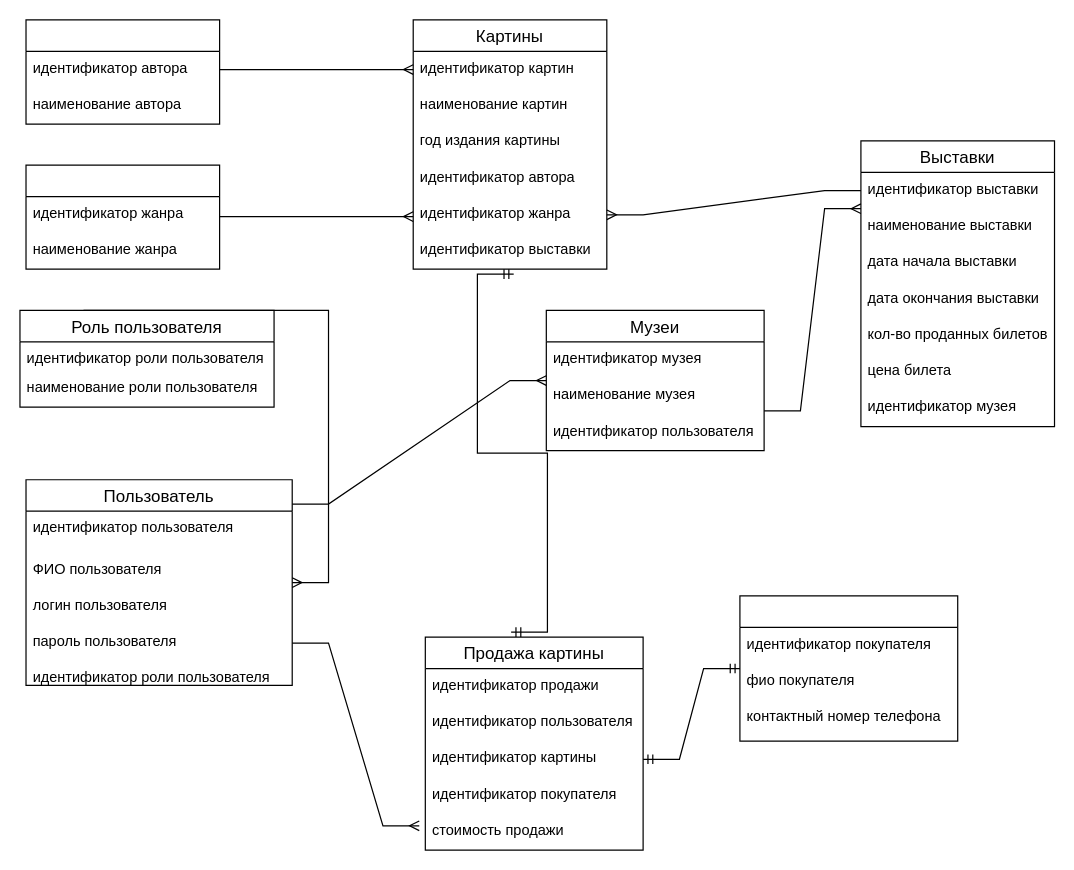
The diagram is 1074 pixels wide and 870 high, and some of its shapes have lost their labels. The shapes that lost their labels are listed below. From the top down, each one's box as (x1, y1, x2, y2) in pixels, then its label:
(25, 19, 220, 124): Авторы
(25, 164, 220, 269): Жанры
(739, 595, 958, 741): Покупатели
